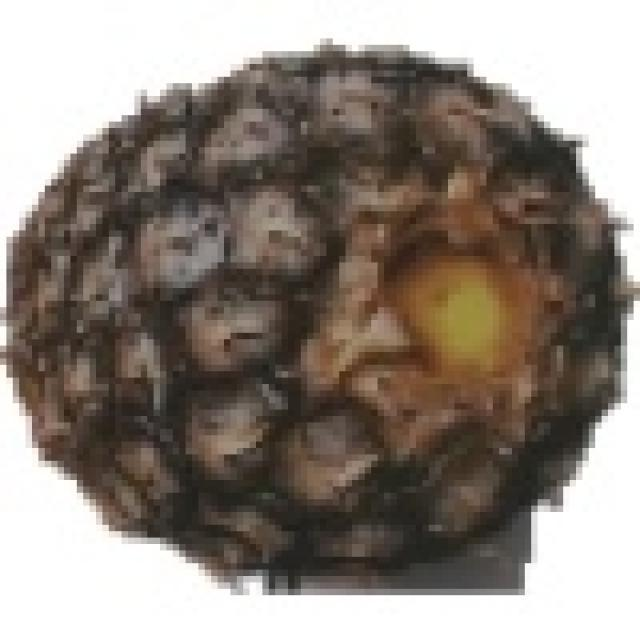pineapple: (0, 38, 608, 576)
